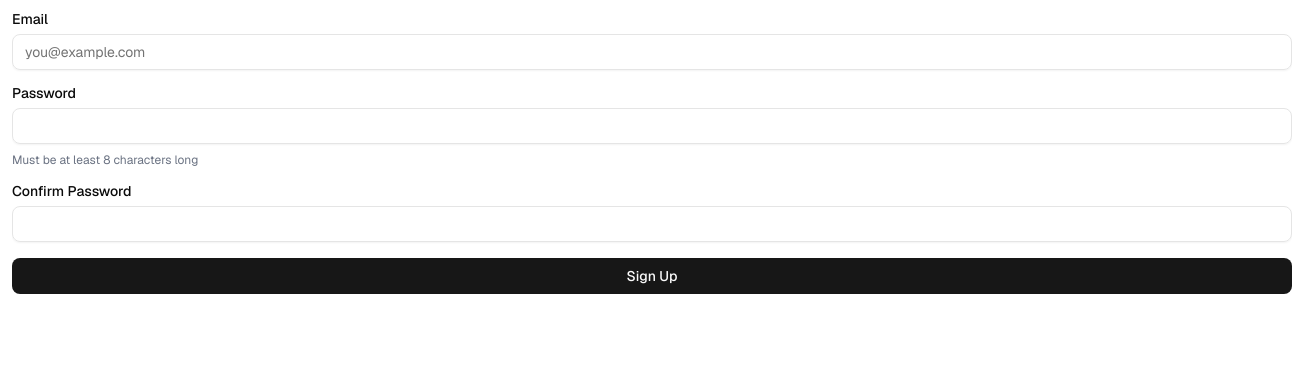
Scenario: shows fallback error when signUp returns no error message
In the password field labelled "Password": point(652, 126) [12, 108, 1292, 144], type "password123"
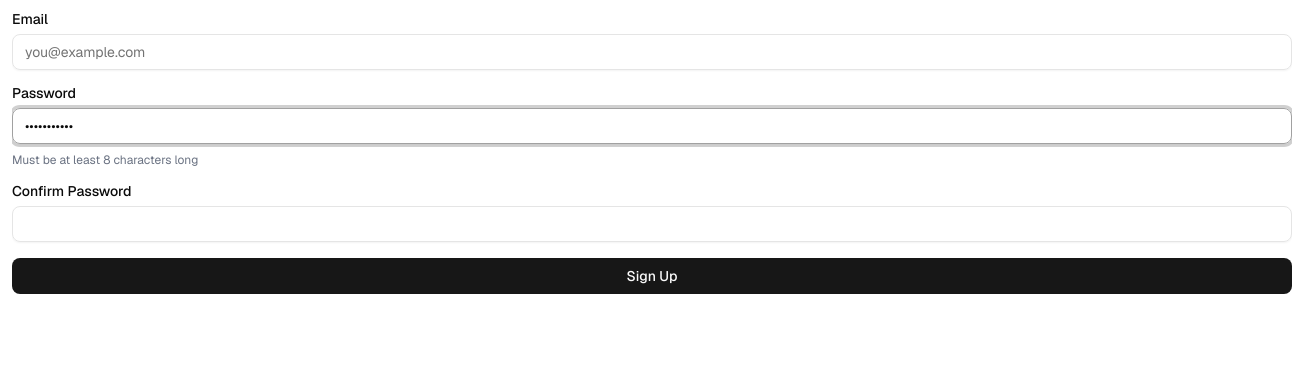
In the password field labelled "Confirm Password": point(652, 224) [12, 206, 1292, 242], type "password123"
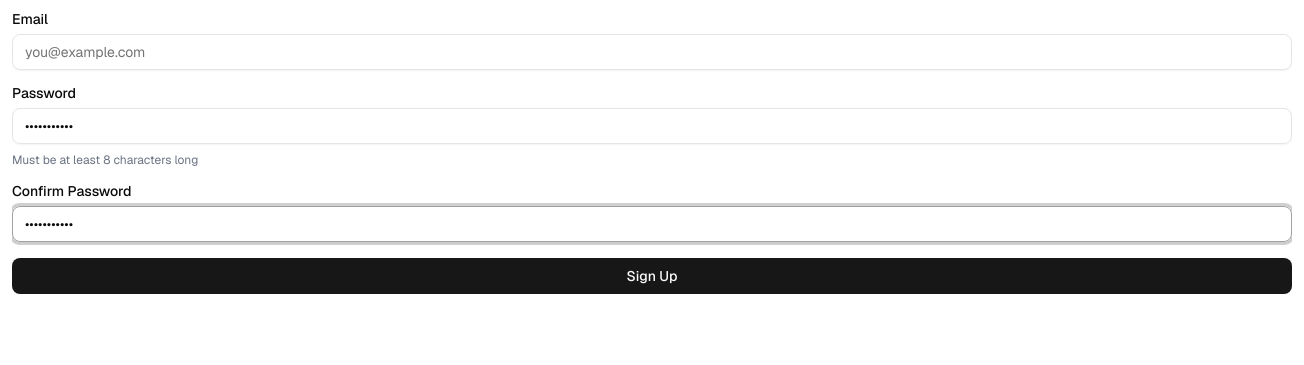
Submit the form
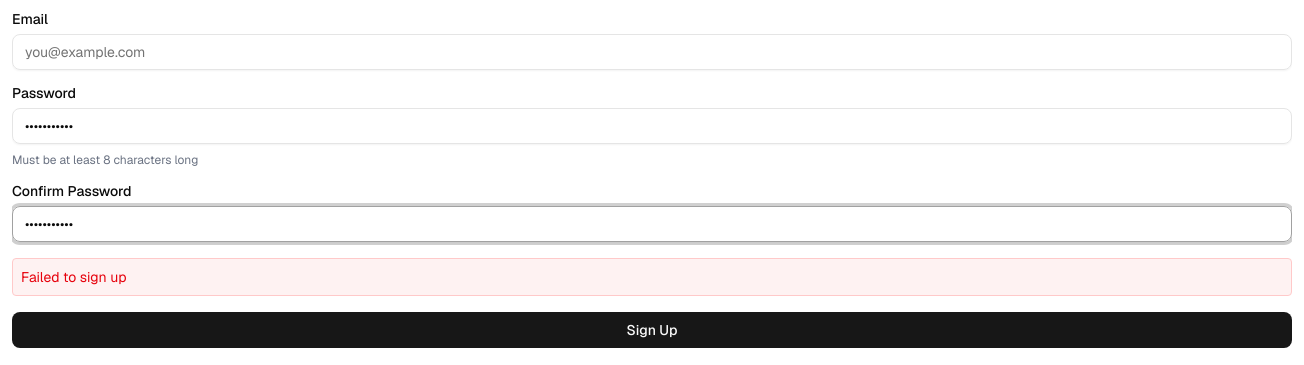
Result: the text "Failed to sign up" is shown at [12, 258, 1292, 296]
